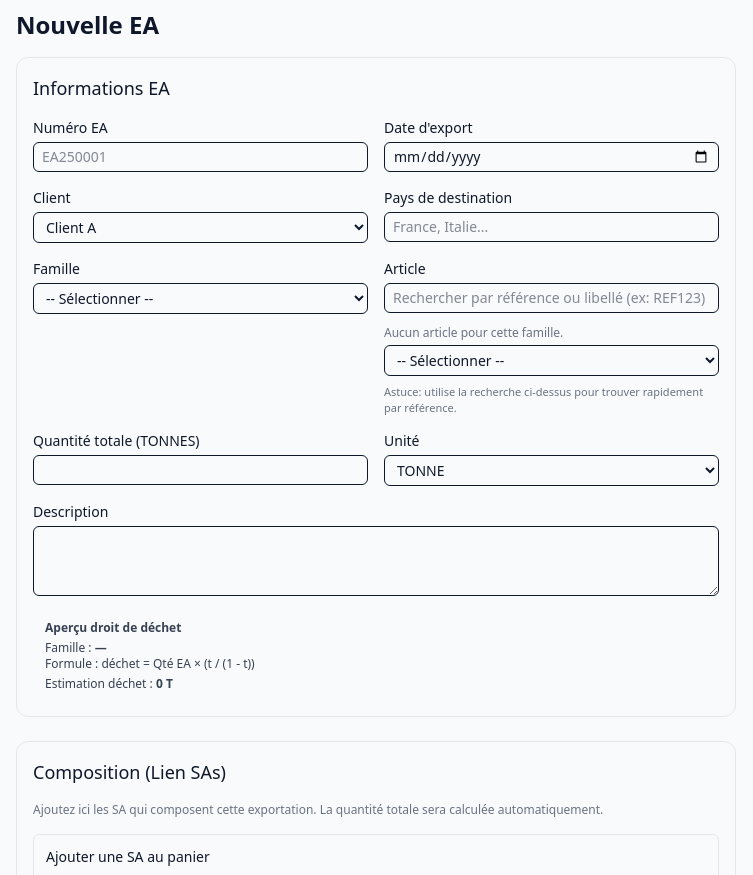
family selection loads articles and computes dechet preview
The image size is (753, 875).
// select family (use role to avoid ambiguous label text elsewhere)
Select "Rond à béton (5%)" in the dropdown labelled "Famille". click: (200, 298)
box: [33,283,368,314]
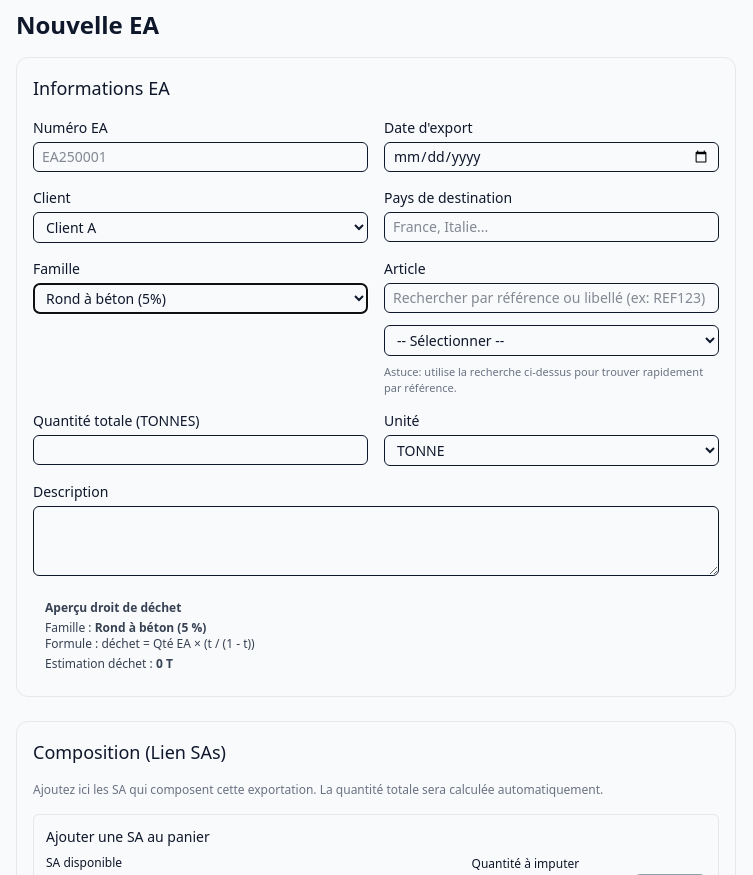
// ensure articles were loaded and can be selected
Select "PRD-1 • Art 1" in the dropdown named "Article". click: (552, 340)
box: [384,325,719,356]
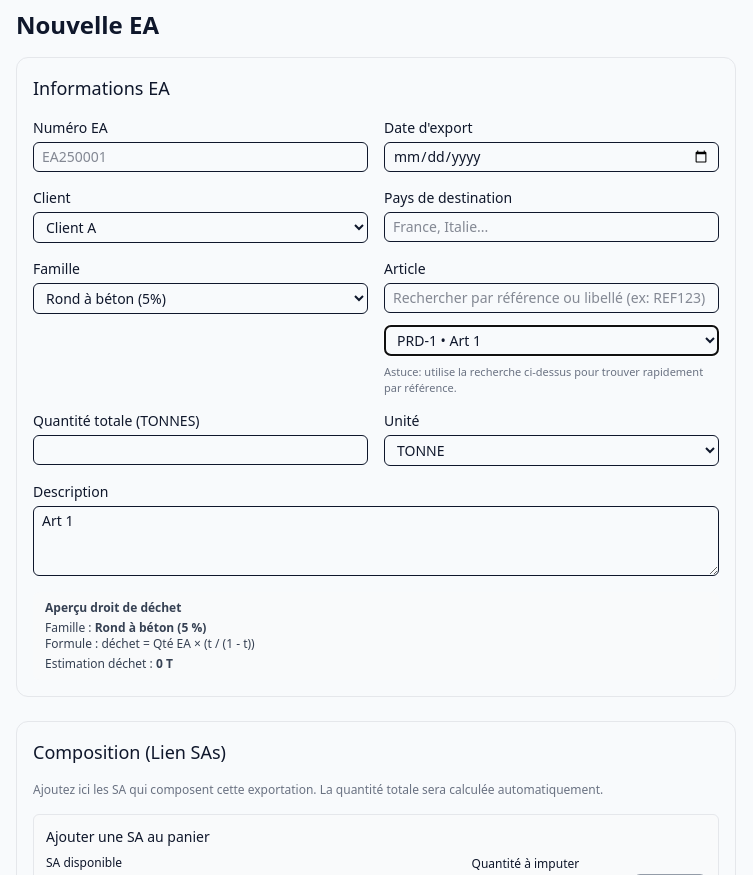
// fill total quantity and check dechet calculation
Type "10" into the number field labelled "Quantité totale (TONNES)". click: (200, 450)
box: [33,435,368,465]
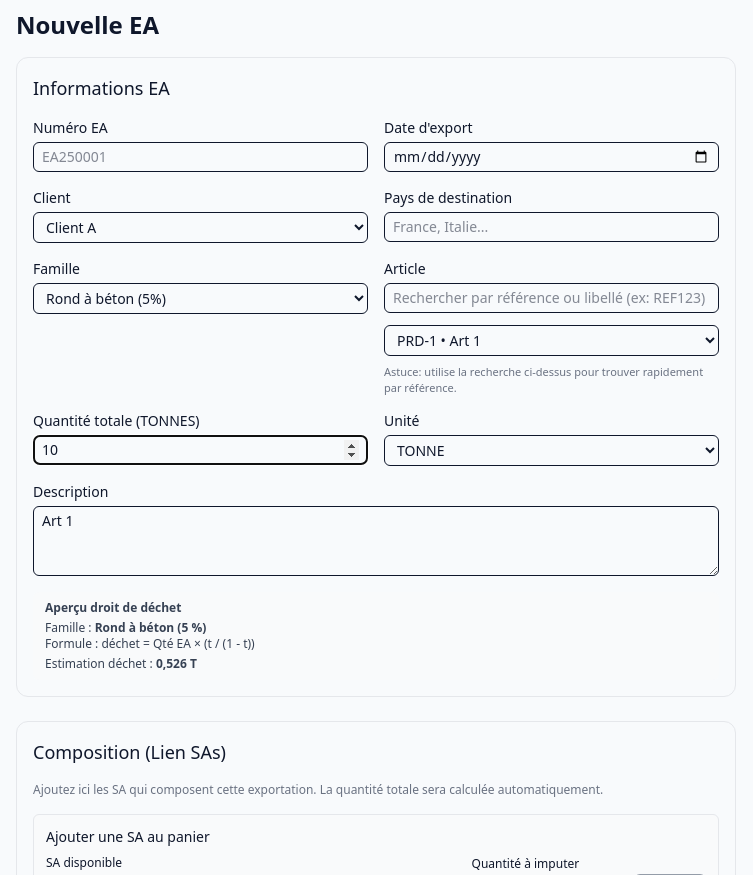
Now the text "Estimation déchet : 0,526 T" is shown, box [45,655,197,672]
